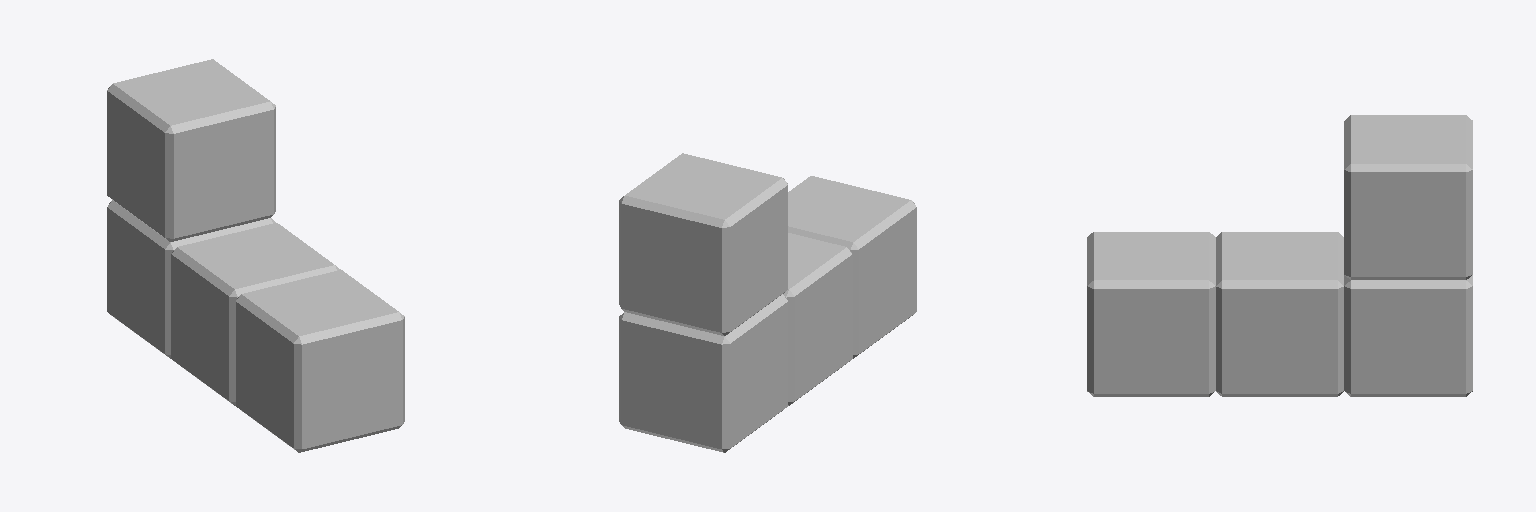
The model's file is fig6.obj.
3 views of the same model, side by side, from view 1: azimuth 30°, elevation 25°; view 2: azimuth 150°, elevation 25°; view 3: azimuth 270°, elevation 25° (orthographic).
Parts seen in each view (by area): view 1: Cube, Cube.003, Cube.001, Cube.002; view 2: Cube.003, Cube.002, Cube, Cube.001; view 3: Cube, Cube.003, Cube.001, Cube.002.
Part boxes in pixels (bbox=[...]): Cube: bbox=[236, 270, 404, 452]; Cube.003: bbox=[107, 59, 275, 241]; Cube.001: bbox=[171, 223, 340, 405]; Cube.002: bbox=[107, 200, 275, 358]; Cube.003: bbox=[619, 153, 787, 335]; Cube.002: bbox=[619, 294, 787, 452]; Cube: bbox=[788, 176, 916, 358]; Cube.001: bbox=[783, 233, 852, 405]; Cube: bbox=[1087, 232, 1215, 396]; Cube.003: bbox=[1344, 115, 1472, 279]; Cube.001: bbox=[1216, 232, 1343, 396]; Cube.002: bbox=[1344, 275, 1472, 396].
Bounding box in the file's own units: 2 × 4 × 6.